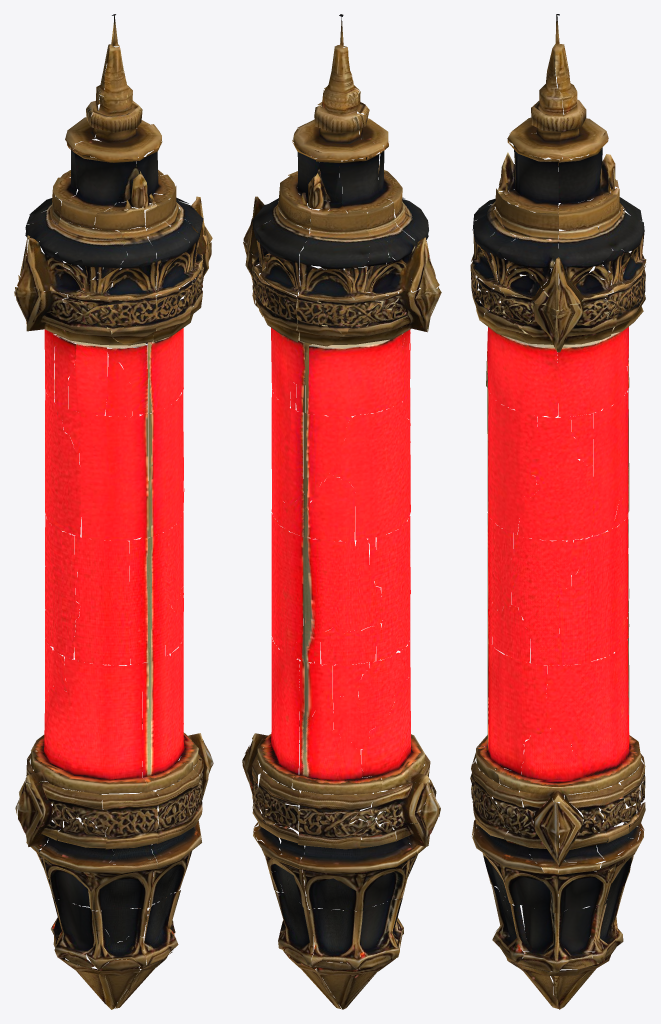
File: w_sera_reagent.glb
The picture shows the model from 3 angles, left to right: view 1: azimuth 30°, elevation 25°; view 2: azimuth 150°, elevation 25°; view 3: azimuth 270°, elevation 25°; orthographic projection.
Visible parts, largest first — view 1: tripo_node_ee86c3b6-2585-4349-b80b-7f96d1102b01; view 2: tripo_node_ee86c3b6-2585-4349-b80b-7f96d1102b01; view 3: tripo_node_ee86c3b6-2585-4349-b80b-7f96d1102b01.
Part boxes in pixels (bbox=[...]): tripo_node_ee86c3b6-2585-4349-b80b-7f96d1102b01: bbox=[14, 14, 213, 1009]; tripo_node_ee86c3b6-2585-4349-b80b-7f96d1102b01: bbox=[242, 14, 441, 1009]; tripo_node_ee86c3b6-2585-4349-b80b-7f96d1102b01: bbox=[470, 14, 646, 1009].
Bounding box in the file's own units: 0.054 × 0.26 × 0.0419.
Materials: 1 (1 with a texture image).
